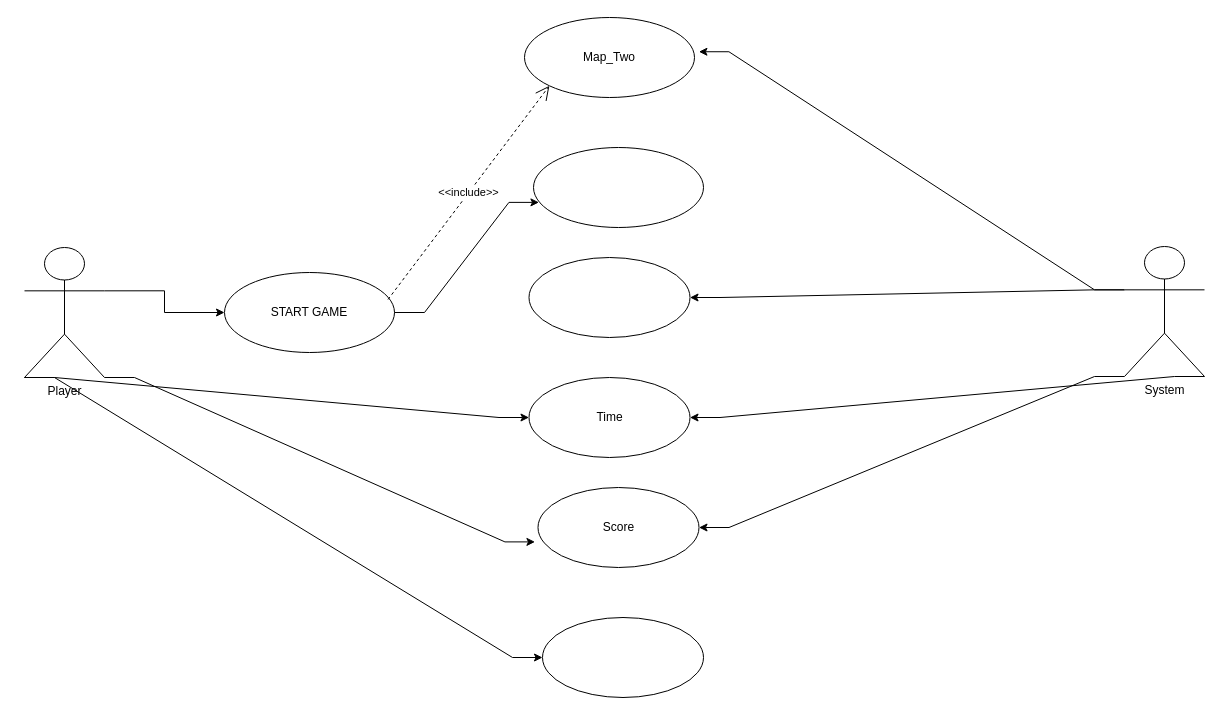
The diagram is 1230 pixels wide and 715 high, and some of its shapes have lost their labels. The shapes that lost their labels are listed below. From the top down, each one's centre as x and y in pixels, then its label:
At point 618,187: "Percy's Move".
At point 609,297: "Enemies's Move".
At point 623,657: "Exit Game".
